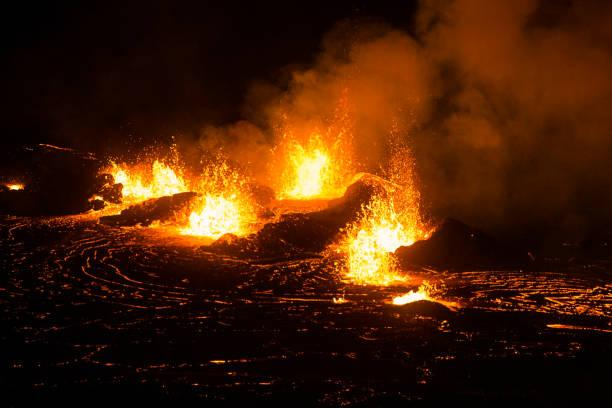Fire: (340, 190, 413, 284), (191, 186, 254, 240), (288, 134, 340, 196), (124, 161, 179, 196)
